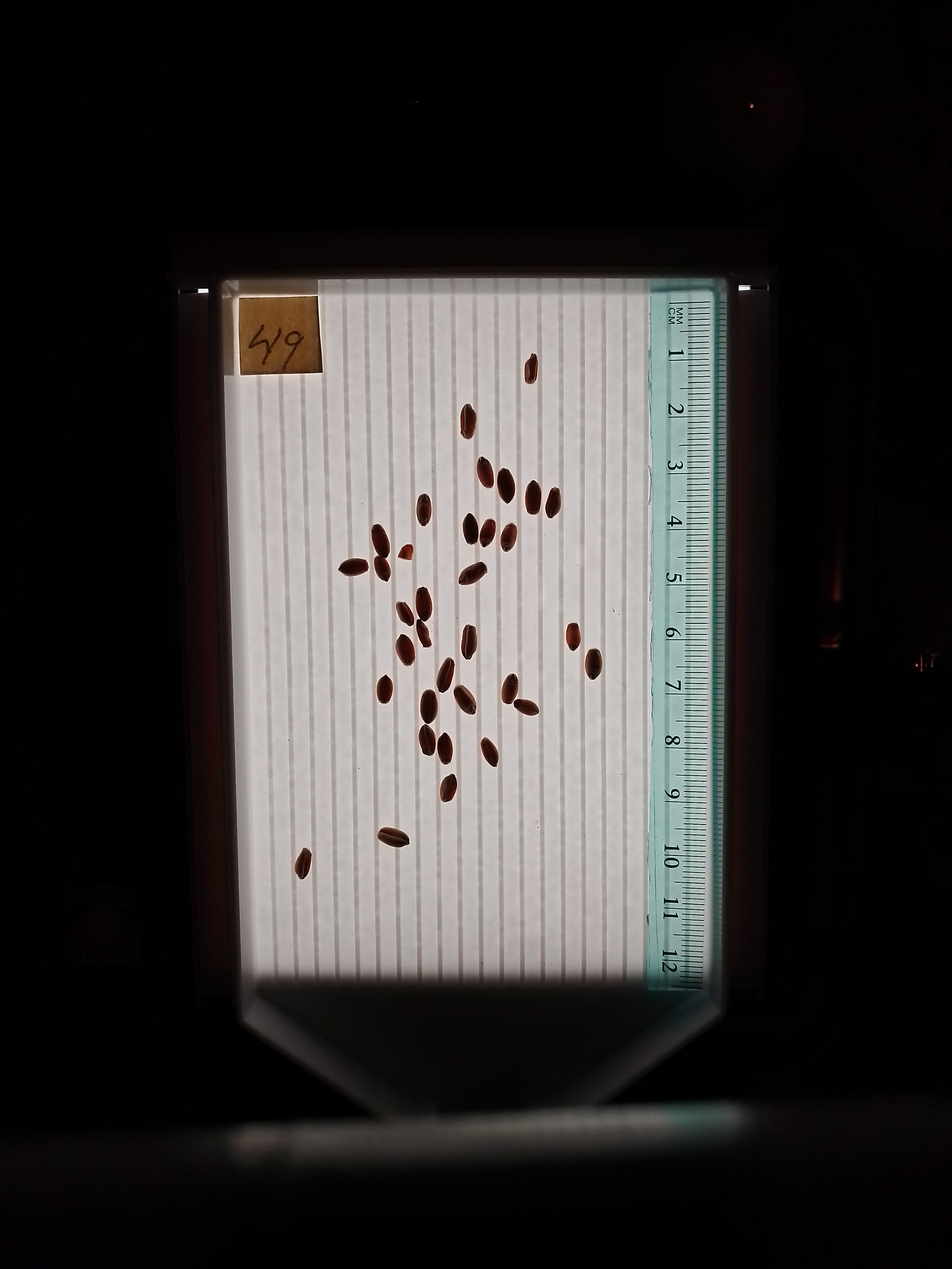seed mask: (378, 826, 410, 849), (459, 562, 486, 586), (415, 586, 433, 622), (454, 685, 476, 714), (372, 525, 390, 558), (396, 635, 415, 666), (525, 481, 542, 515), (498, 469, 515, 503), (545, 487, 563, 519), (420, 690, 438, 722), (480, 738, 499, 768), (437, 659, 454, 692), (460, 404, 476, 439), (461, 625, 477, 659), (419, 725, 436, 756), (339, 558, 368, 576), (477, 457, 494, 487), (585, 649, 602, 679), (295, 849, 312, 879), (376, 675, 393, 704), (502, 675, 519, 704), (416, 495, 432, 525), (440, 775, 457, 802), (438, 734, 453, 763), (524, 354, 538, 385), (501, 524, 517, 551), (480, 519, 496, 546), (463, 515, 477, 545), (515, 699, 539, 716), (374, 556, 390, 581), (397, 602, 414, 625), (417, 621, 431, 648), (566, 623, 580, 650), (399, 544, 413, 561)
